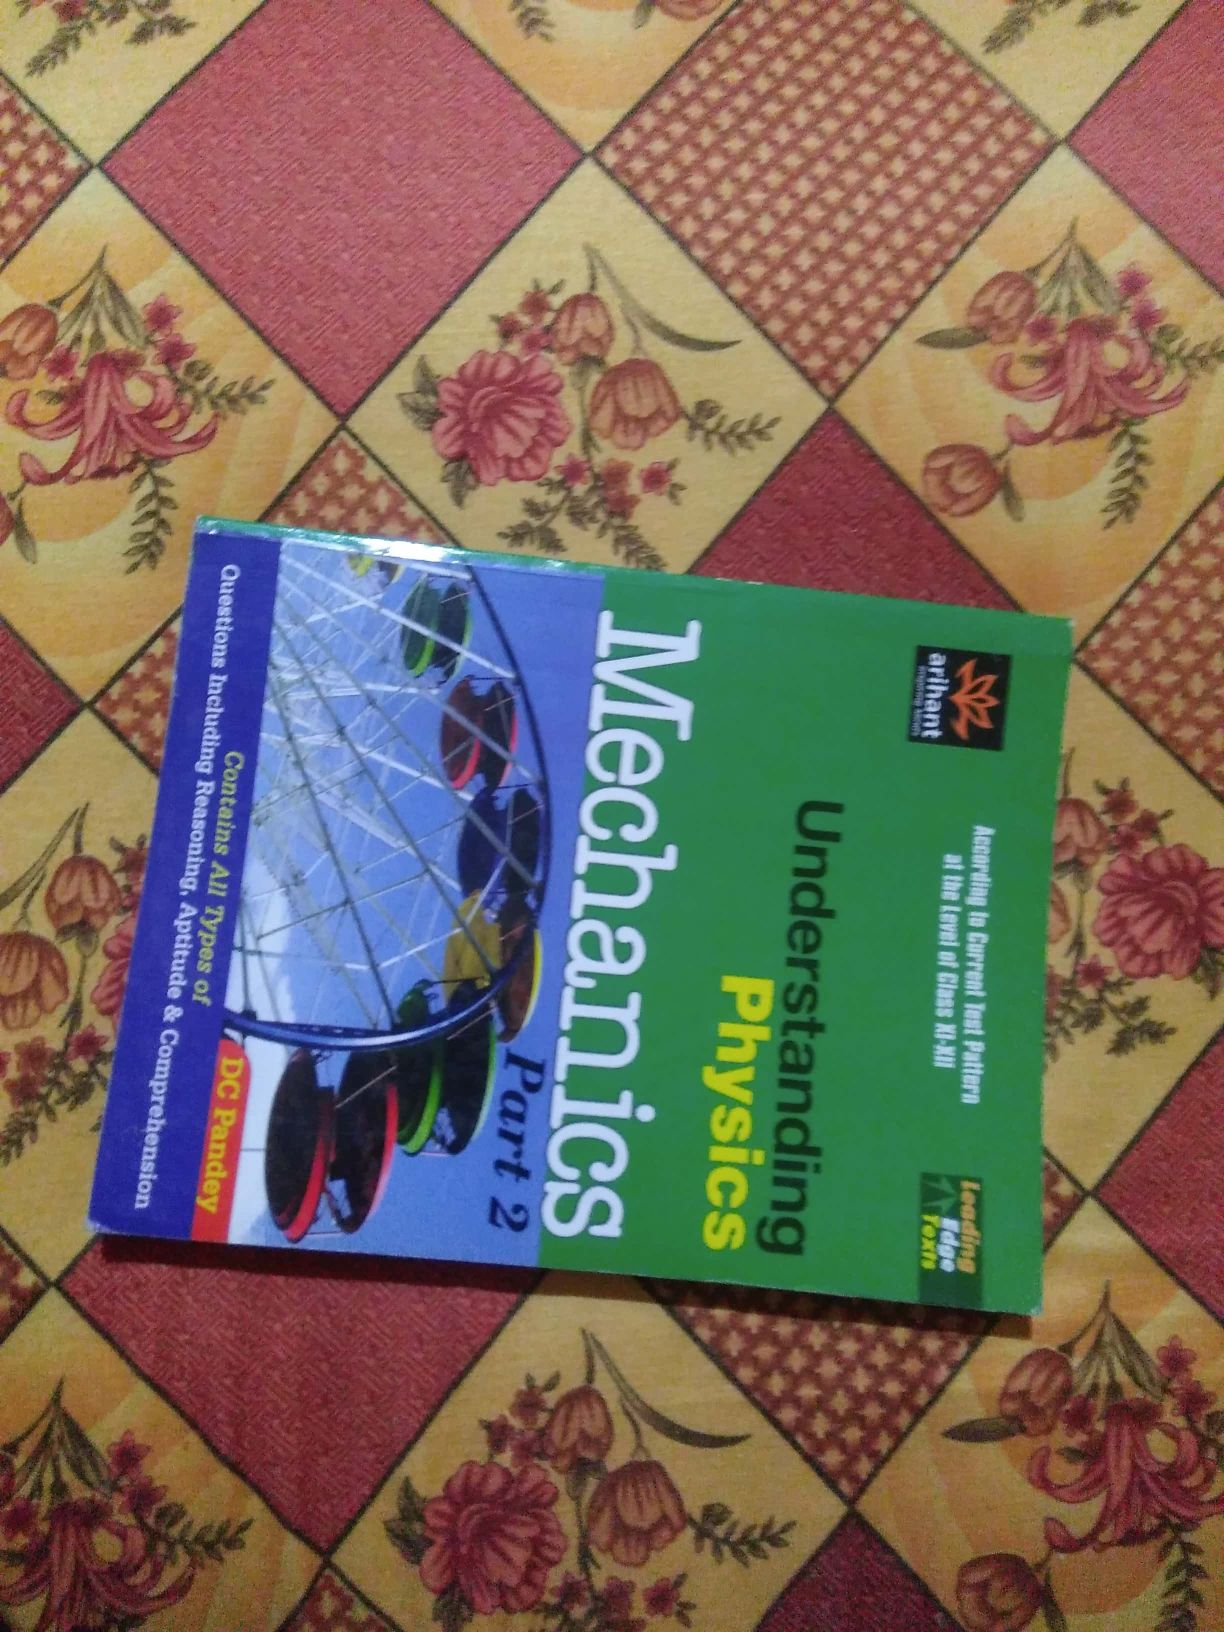mechanics: (84, 490, 1129, 1353)
